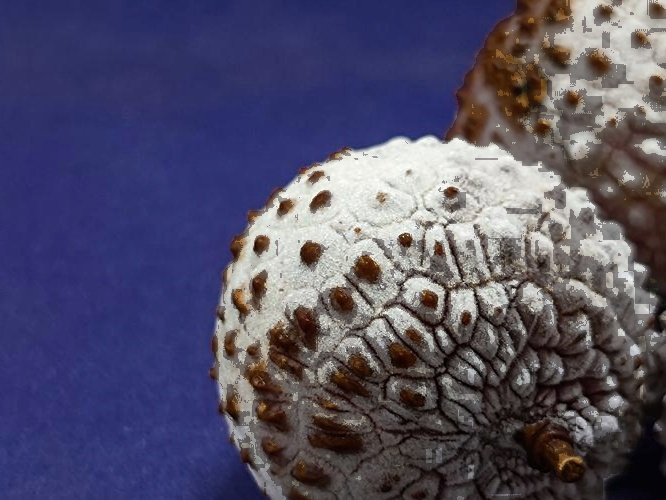Frost_Blight: (206, 157, 649, 480), (443, 0, 662, 139)
